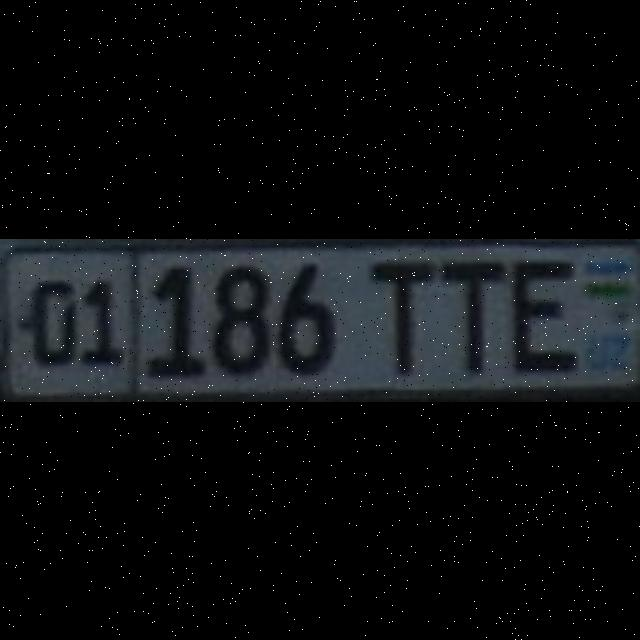0: (28, 278, 72, 362)
1: (142, 262, 204, 374), (79, 278, 121, 362)
6: (273, 259, 331, 371)
8: (210, 262, 264, 372)
E: (509, 256, 573, 368)
T: (367, 256, 431, 372), (440, 256, 500, 368)
